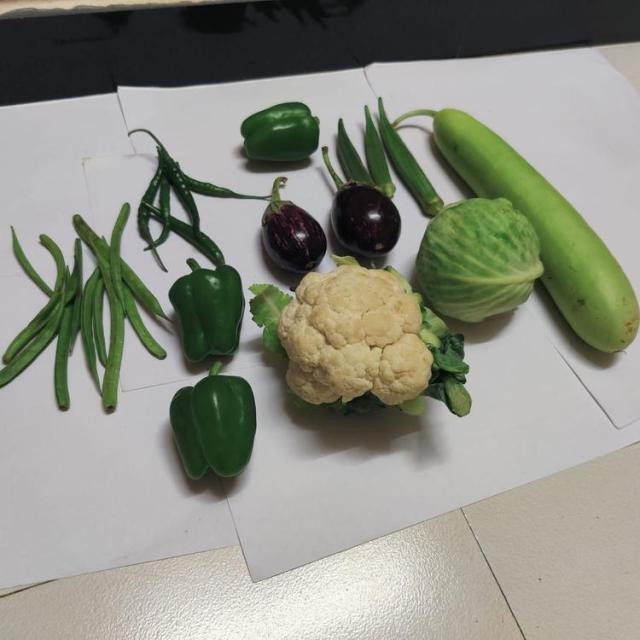Organik: (8, 220, 173, 418), (264, 265, 456, 414), (114, 128, 252, 261), (415, 195, 546, 324), (160, 361, 269, 491), (336, 104, 444, 207), (157, 261, 255, 374), (243, 176, 333, 275), (319, 158, 401, 258), (225, 100, 328, 168)
